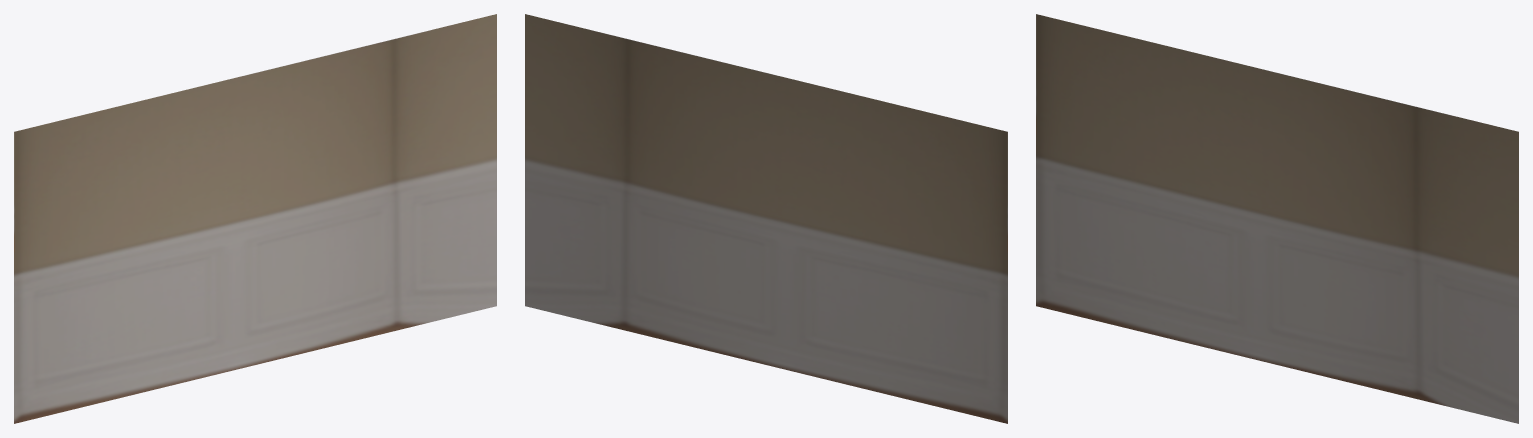
The model's file is wall.003.obj.
The picture shows the model from 3 angles, left to right: view 1: azimuth 30°, elevation 25°; view 2: azimuth 150°, elevation 25°; view 3: azimuth 330°, elevation 25°; orthographic projection.
Visible parts, largest first — view 1: wall.003; view 2: wall.003; view 3: wall.003.
Part boxes in pixels (box(x1,y1,x2,y2)): wall.003: box(14, 14, 496, 423); wall.003: box(525, 14, 1007, 423); wall.003: box(1036, 14, 1518, 423).
Bounding box in the file's own units: 130 × 75.02 × 6.1e-05.
